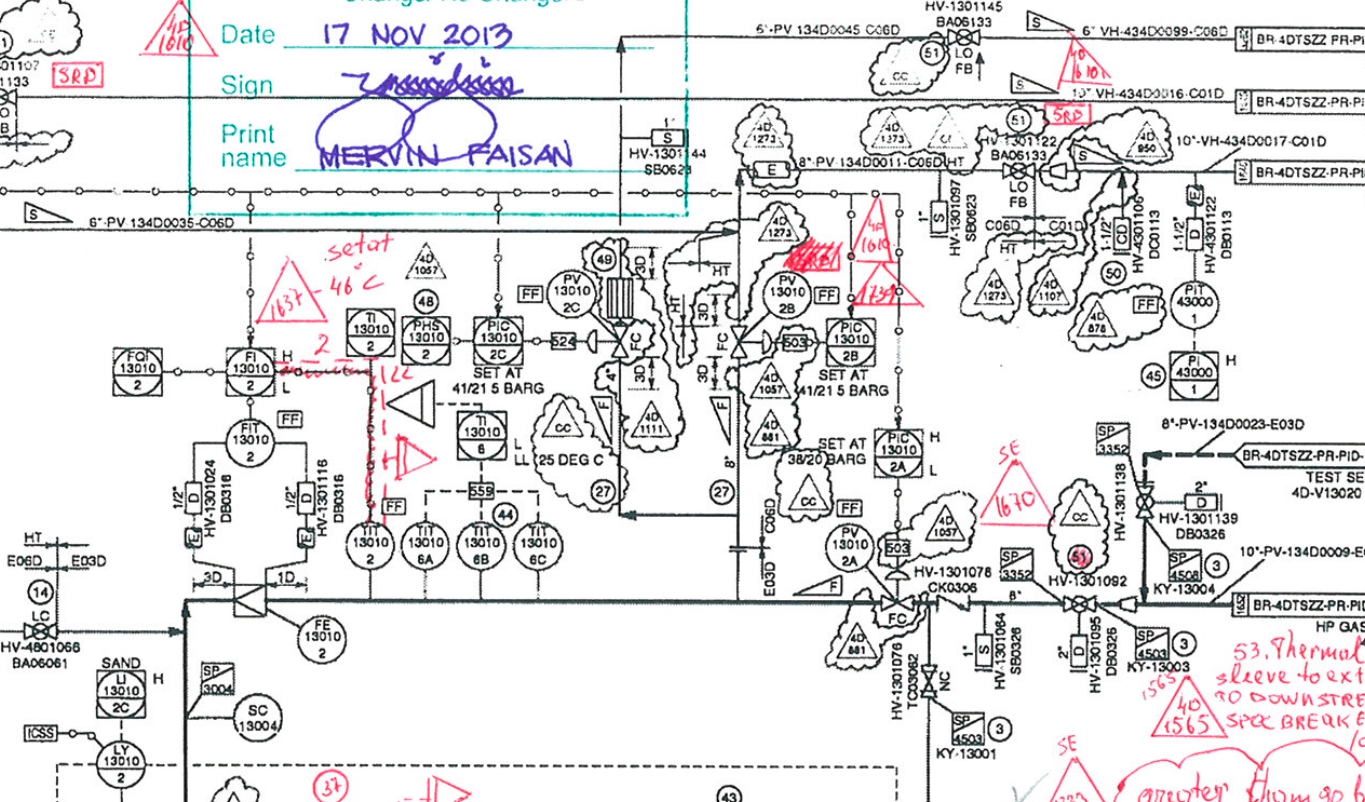Instrument: (292, 608, 349, 670), (90, 735, 153, 791), (541, 265, 602, 322), (223, 412, 280, 473), (756, 269, 818, 322), (1168, 278, 1225, 334), (230, 691, 289, 745), (822, 519, 877, 576), (454, 517, 508, 575), (512, 522, 569, 576), (343, 517, 395, 573), (399, 518, 451, 574)
Instrument-square: (217, 338, 283, 401), (103, 339, 167, 400), (867, 421, 930, 482), (90, 663, 150, 722), (822, 311, 881, 371), (396, 312, 455, 371), (468, 312, 528, 369), (1165, 347, 1223, 405), (342, 304, 398, 358)
